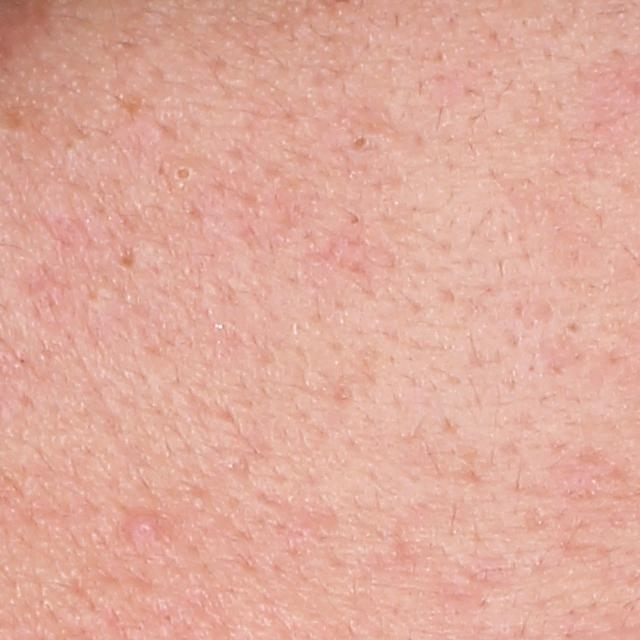comedo: (160, 155, 215, 194), (344, 131, 379, 156), (119, 244, 146, 273), (562, 317, 584, 342)
papule: (131, 509, 163, 548)
